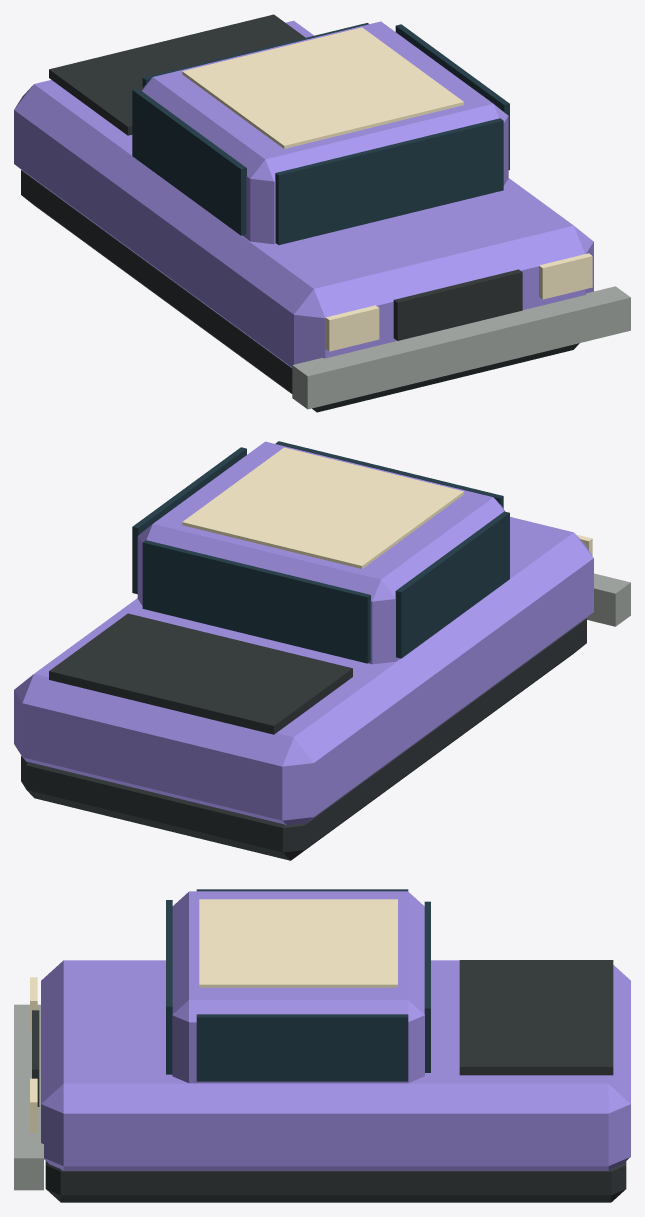
The model's file is truck-4.glb.
3 renders of one model, top to bottom at view 1: azimuth 30°, elevation 25°; view 2: azimuth 150°, elevation 25°; view 3: azimuth 270°, elevation 25°, orthographic. The views are drawn at different scales.
Parts seen in each view (by area): view 1: Optimized truck-4; view 2: Optimized truck-4; view 3: Optimized truck-4.
Boxes of the visible parts, x1=… form: Optimized truck-4: x1=14, y1=14, x2=630, y2=412; Optimized truck-4: x1=14, y1=441, x2=630, y2=860; Optimized truck-4: x1=14, y1=889, x2=630, y2=1202.
Bounding box in the file's own units: 1.94 × 1.18 × 3.3.
